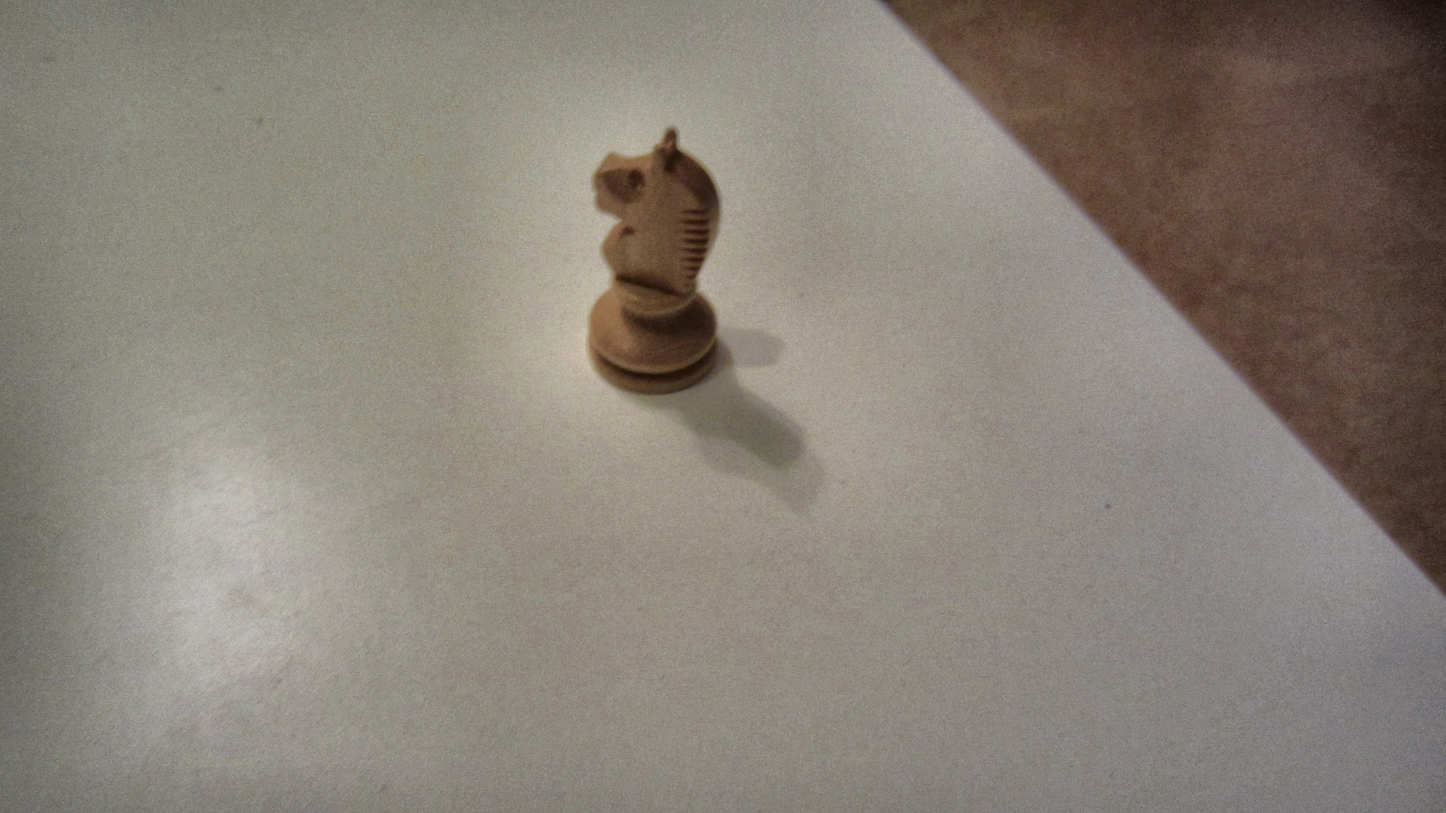white-knight: (583, 124, 723, 397)
